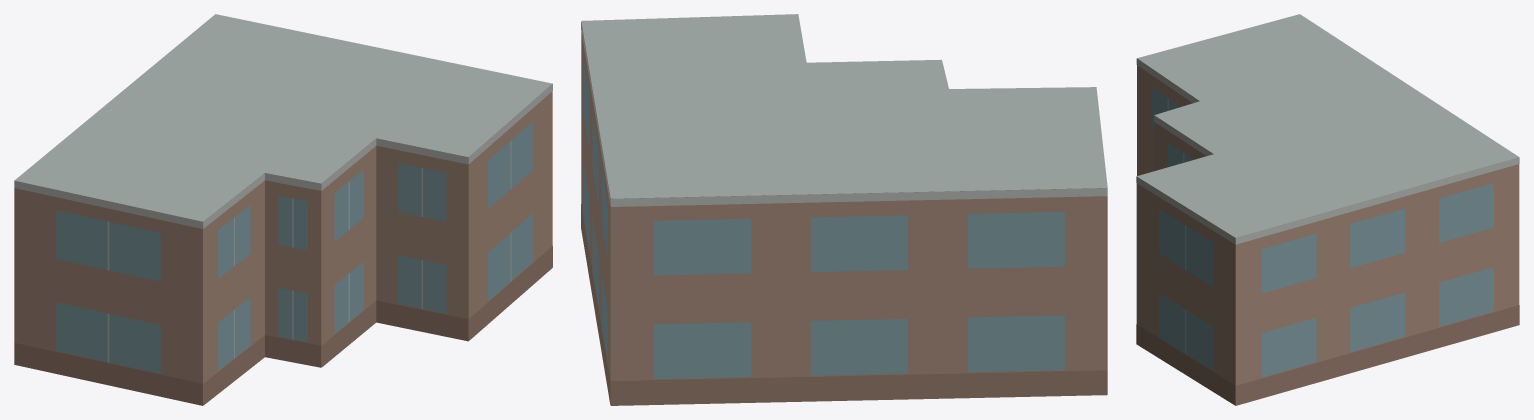
File: survey-upis-32623889.glb
3 renders of one model, left to right at view 1: azimuth 30°, elevation 25°; view 2: azimuth 150°, elevation 25°; view 3: azimuth 270°, elevation 25°, orthographic. The views are drawn at different scales.
Visible parts, largest first — view 1: survey-upis-32623889.tmp; view 2: survey-upis-32623889.tmp; view 3: survey-upis-32623889.tmp.
Boxes of the visible parts, box(x1,y1,x2,y2) form: survey-upis-32623889.tmp: box(14, 14, 552, 405); survey-upis-32623889.tmp: box(581, 14, 1107, 405); survey-upis-32623889.tmp: box(1136, 14, 1519, 405).
Size of the model in its own units: 17.46 by 6.1 by 12.62.
